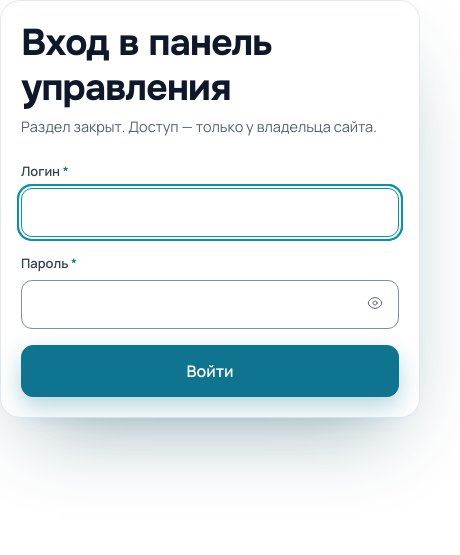
Test case: Форма входа в панель › отказ озвучивается и пароль очищается
Type "admin" into the field labelled "Логин" at x=210, y=212, box 21,188 -> 399,237
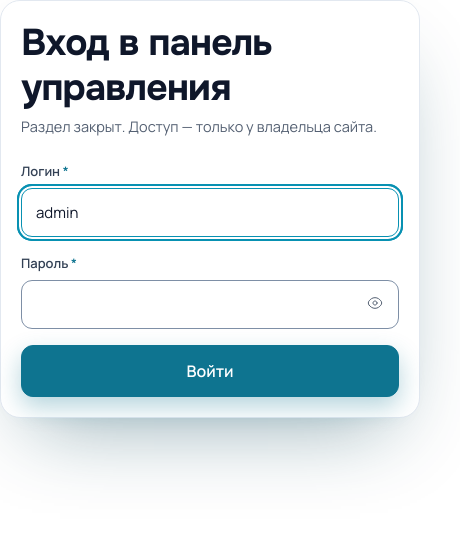
Type "неверный" into the password field labelled "Пароль" at x=210, y=305, box 21,280 -> 399,329
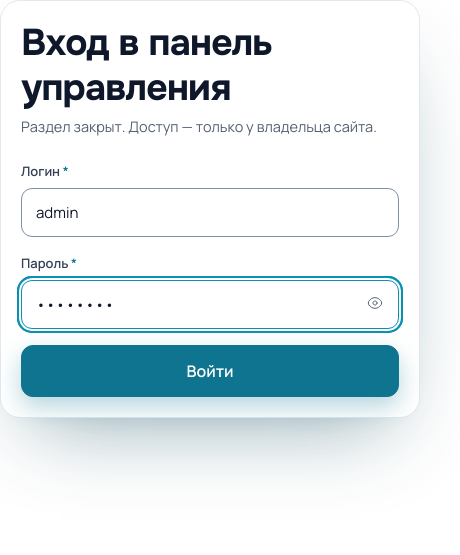
Click the button "Войти" at x=210, y=371, box 21,345 -> 399,397
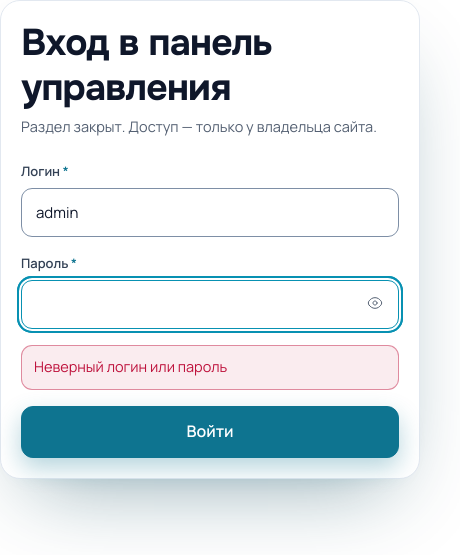
expect the message reads "Неверный логин или пароль": met, box 34,357 -> 227,376
expect the password field labelled "Пароль" is empty: met, box 21,280 -> 399,329
